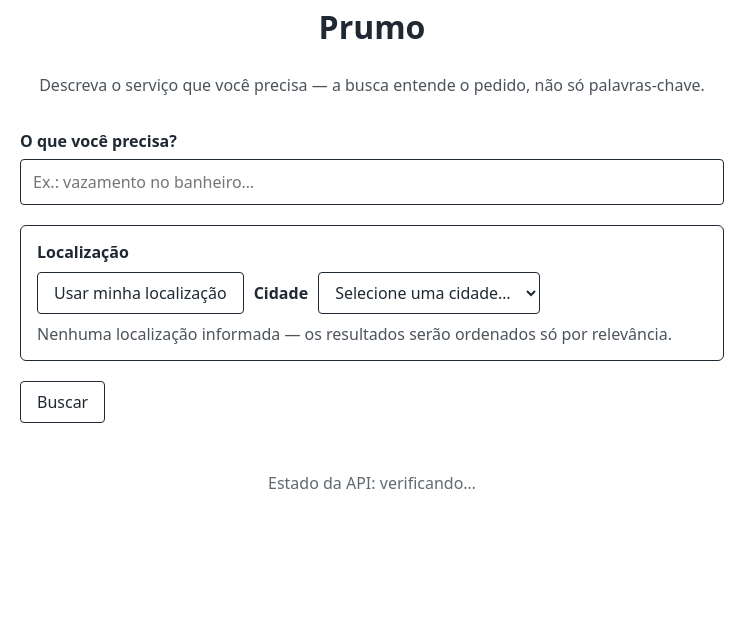
Scenario: App — tela de busca › 400 (invalid_request) da API vira erro do campo com o texto que a própria API devolveu
This screenshot has width=745, height=626.
Step 1. Type "ok" into the field labelled "O que você precisa?" → (372, 182), box [20, 159, 724, 205]
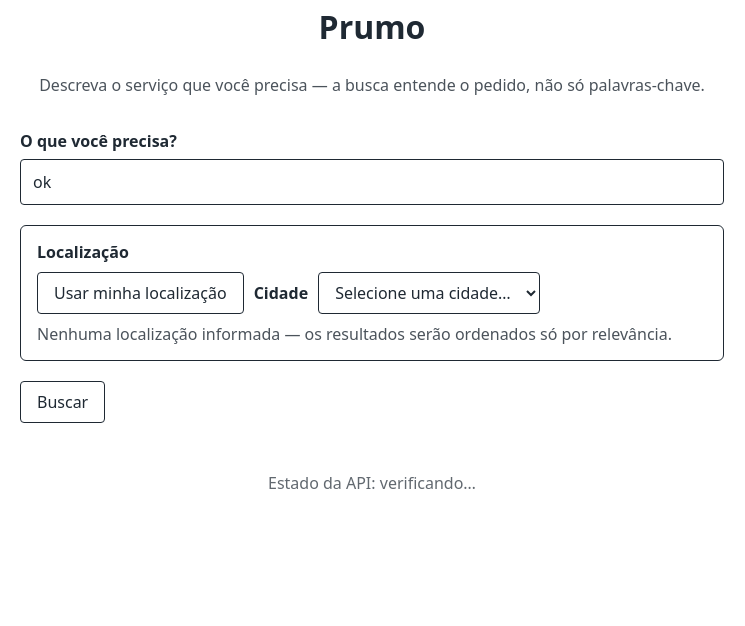
Step 2. Click the button "Buscar" → (63, 402), box [20, 381, 105, 423]
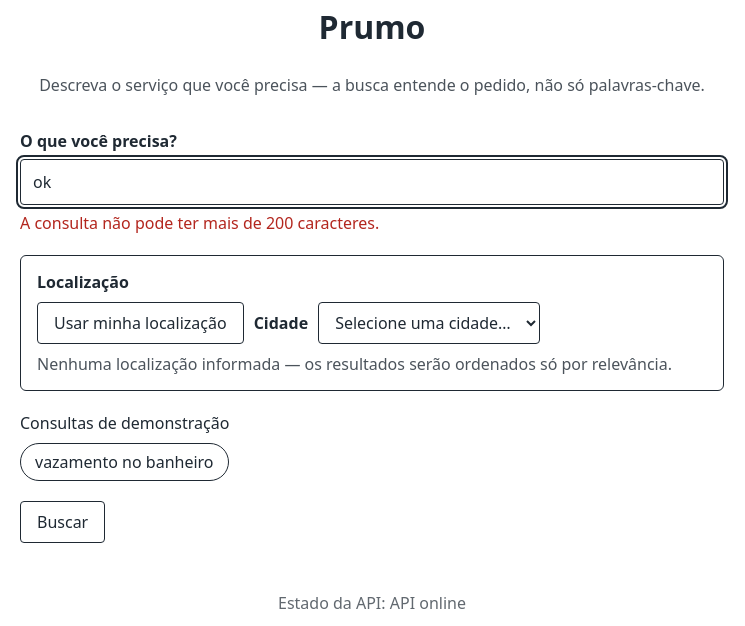
expect the message "A consulta não pode ter mais de 200 caracteres." is shown: met, box [20, 212, 379, 234]
